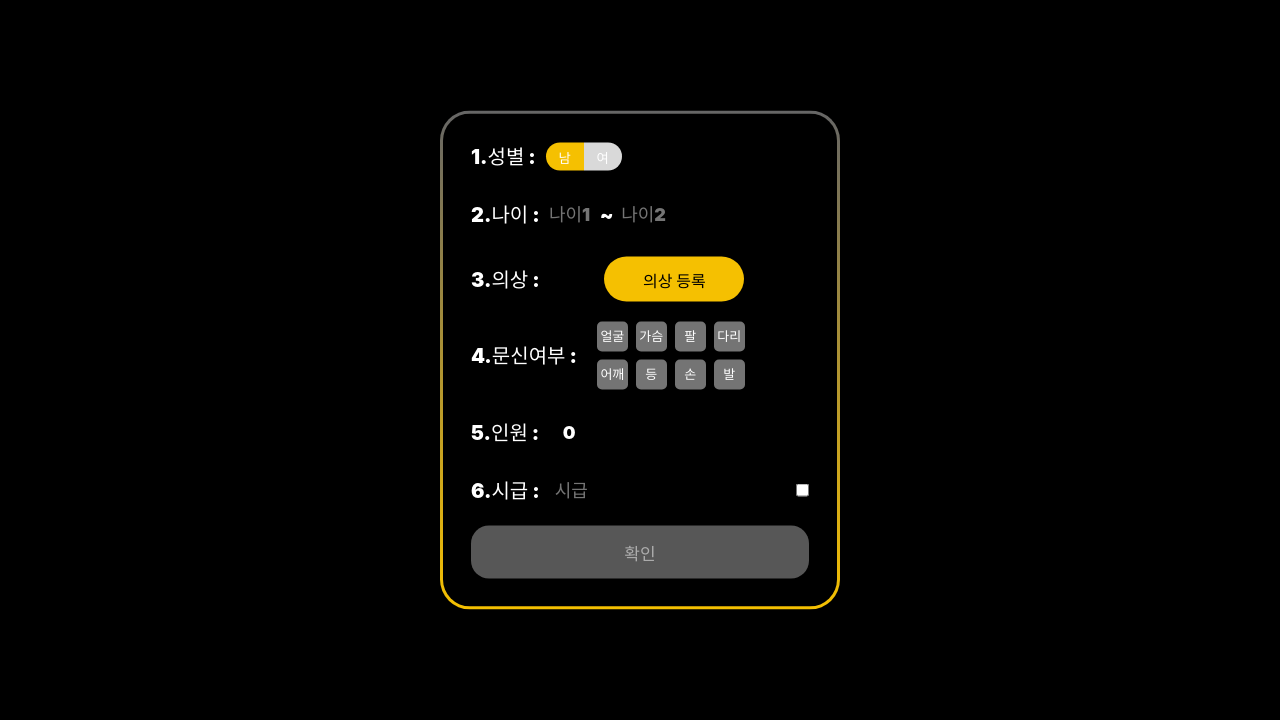
Scenario: CompanyRoleModal 컴포넌트 › 모달이 보일 때 정상적으로 렌더링되고 입력 필드가 업데이트되는지 확인
Expected: the text "1.성별 :" is shown, [471, 142, 536, 172]
Expected: the text "2.나이 :" is shown, [471, 199, 540, 229]
Type "10" into the number field with placeholder "나이1" at (570, 214), box [540, 196, 600, 232]
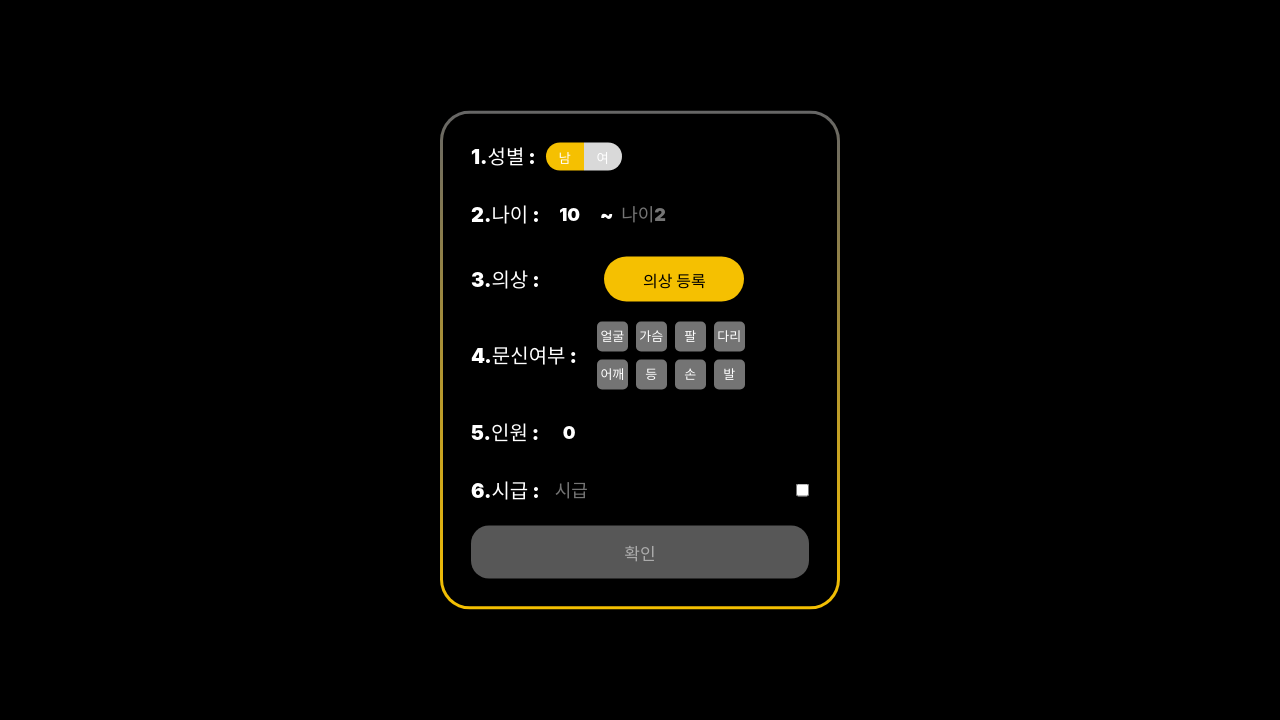
Type "20" into the number field with placeholder "나이2" at (644, 214), box [614, 196, 674, 232]
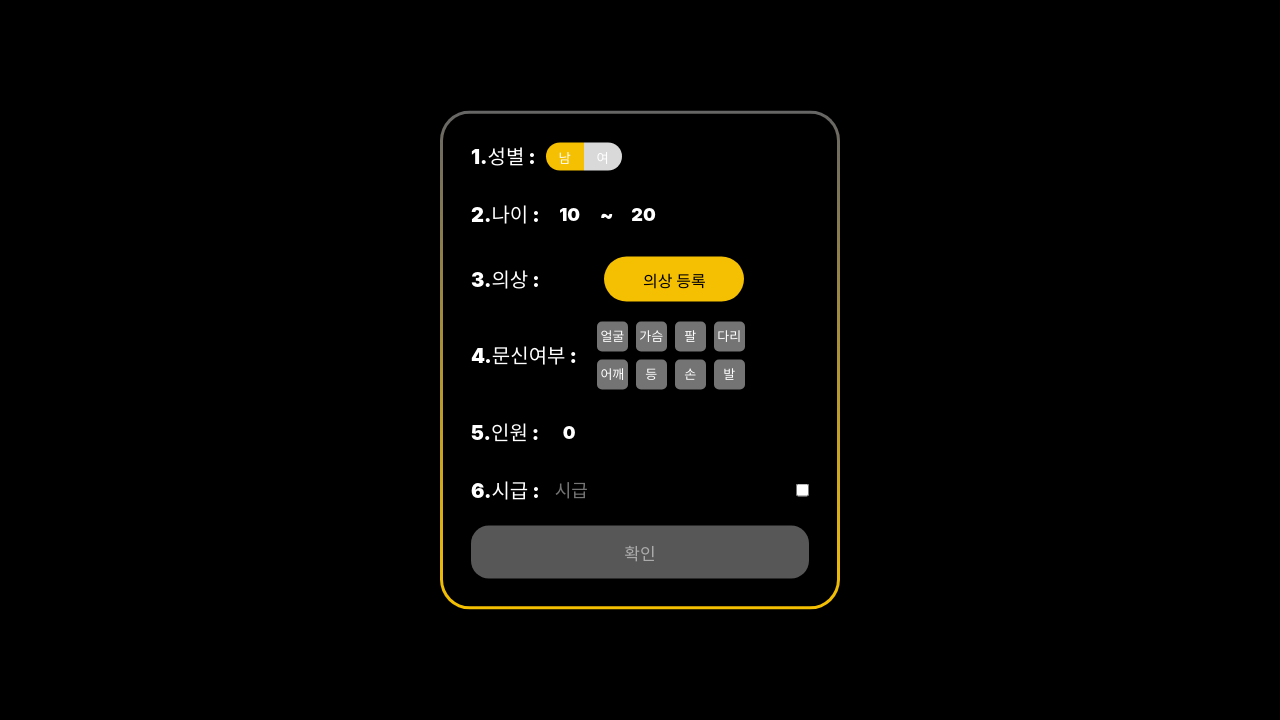
Replace the text in the number field with placeholder "인원" next to "5.인원 :" with "10" at (569, 432), box [539, 414, 599, 450]
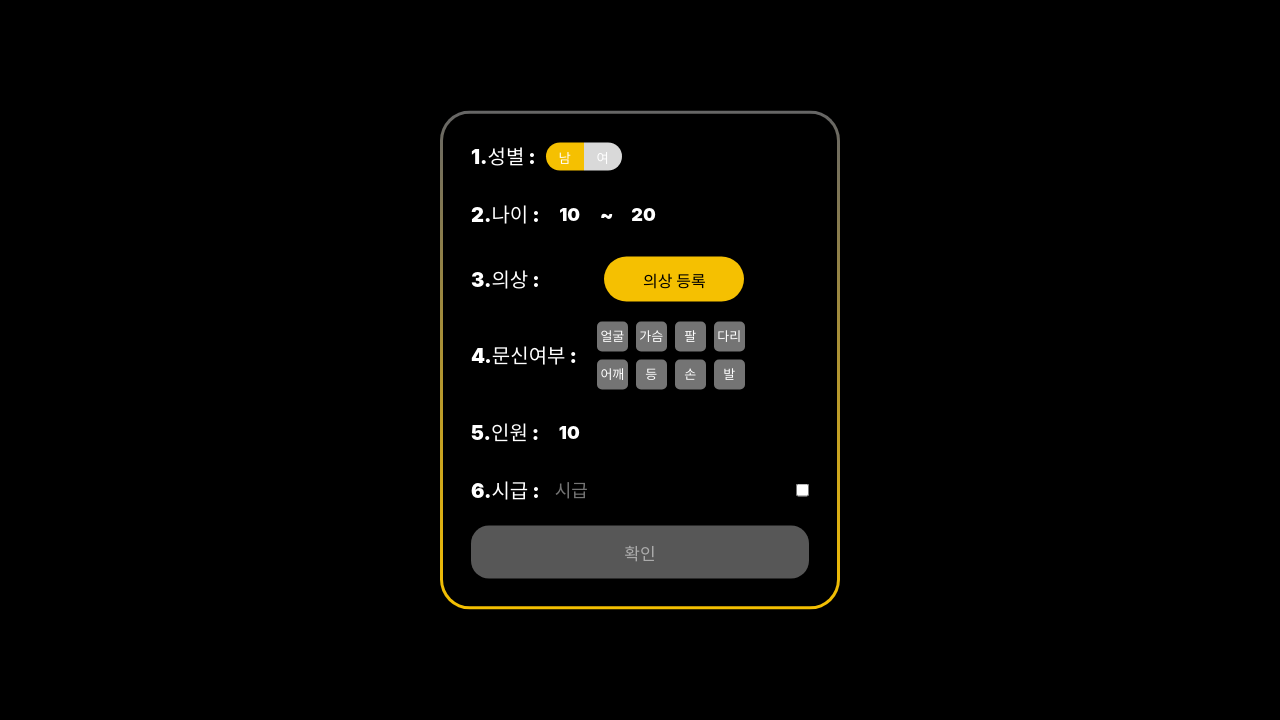
Type "15000" into the field with placeholder "시급" at (668, 490), box [550, 474, 786, 506]
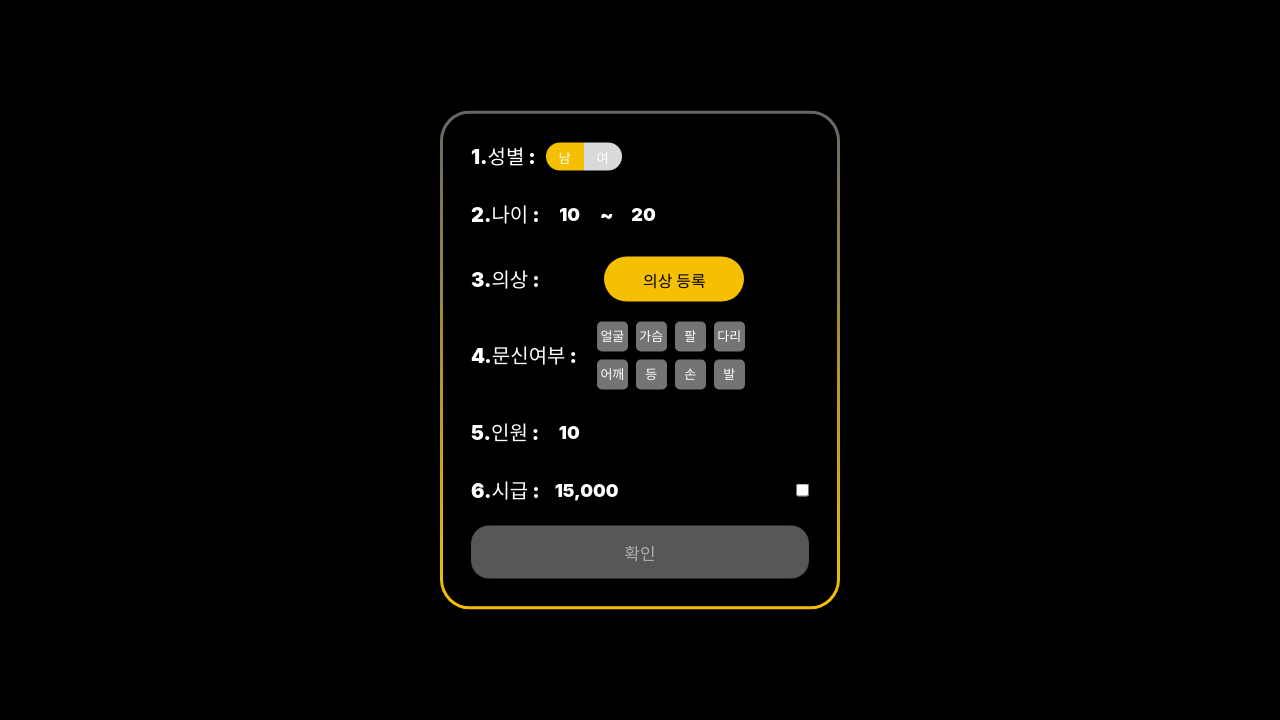
Expected: the field with placeholder "시급" holds "15,000", [550, 474, 786, 506]
